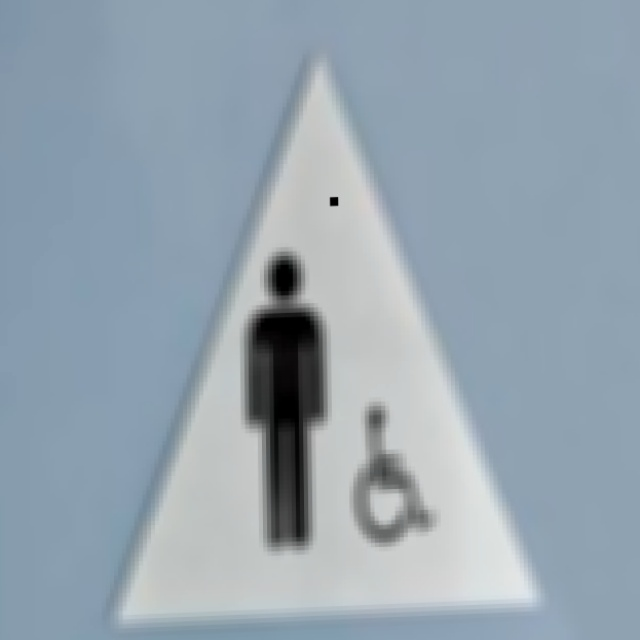ISA: (351, 391, 438, 559)
